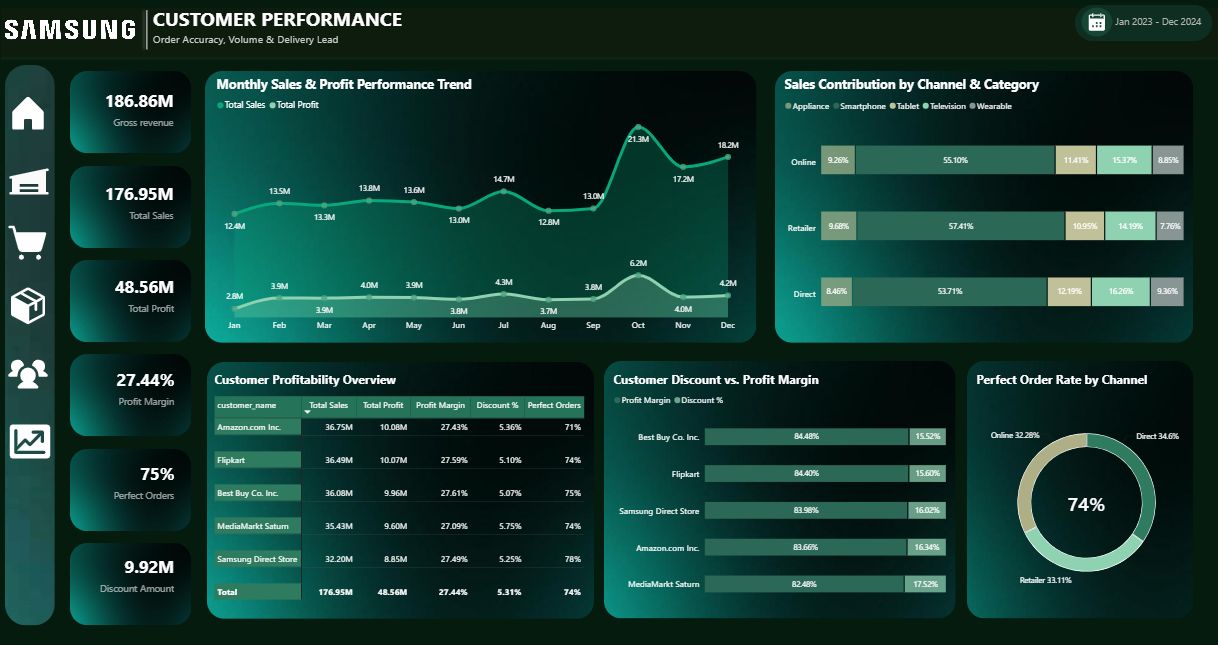

Layout of this report page (visuals, bound fields, positions):
{"tool":"powerbi","page":{"name":"Customer","canvas":[2035,1080],"ordinal":5},"visuals":[{"type":"image","box":[11.4,111.4,82.9,934.3],"z":0},{"type":"shape","box":[0,11.4,2077,91.6],"z":1000},{"type":"image","box":[1010,605.7,585.7,428.6],"z":2000},{"type":"image","box":[1615.7,605.7,377.1,428.6],"z":3000},{"type":"image","box":[347.9,606.4,645.2,428],"z":4000},{"type":"image","box":[1295.7,121.4,697.1,452.9],"z":5000},{"type":"image","box":[344.3,121.4,918.6,452.9],"z":6000},{"type":"image","box":[119.5,908.5,202.3,137.2],"z":7000},{"type":"image","box":[119.5,751.2,202.3,137.2],"z":8000},{"type":"image","box":[119.5,593.9,202.3,137.2],"z":9000},{"type":"image","box":[119.5,436.7,202.3,137.2],"z":10000},{"type":"image","box":[119.5,279.4,202.3,137.2],"z":11000},{"type":"image","box":[119.5,122.1,202.3,137.2],"z":12000},{"type":"cardVisual","fields":{"Data":["Sum(fact_sales.gross_revenue)"]},"box":[111.6,114.4,197.8,142.8],"z":13000},{"type":"cardVisual","fields":{"Data":["Measures_table.Total_Revenue"]},"box":[111.6,269.8,197.8,142.8],"z":14000},{"type":"cardVisual","fields":{"Data":["Measures_table.Total Profit"]},"box":[111.4,425.2,198.2,142.8],"z":15000},{"type":"cardVisual","fields":{"Data":["Measures_table.Profit Margin"]},"box":[111.4,580.7,198.2,142.8],"z":16000},{"type":"cardVisual","fields":{"Data":["Measures_table.Perfect Order"]},"box":[111.4,736.1,198.2,142.8],"z":17000},{"type":"cardVisual","fields":{"Data":["Sum(fact_sales.discount_amount)"]},"box":[111.4,891.5,198.2,142.8],"z":18000},{"type":"pivotTable","title":"Customer Profitability Overview","fields":{"Rows":["dim_customer.customer_name"],"Values":["Measures_table.Total Sales","Measures_table.Total Profit","Measures_table.Profit Margin","Measures_table.Discount %","Measures_table.Perfect Order"]},"box":[344.3,607.1,650,427.1],"z":19000},{"type":"lineChart","title":"Monthly Sales & Profit Performance Trend","fields":{"Category":["dim_date.quarter","dim_date.year","dim_date.short_month_name"],"Y":["Measures_table.Total Sales","Measures_table.Total Profit"]},"box":[348.6,114.3,914.3,460],"z":20000},{"type":"hundredPercentStackedBarChart","title":"Sales Contribution by Channel & Category","fields":{"Category":["dim_customer.channel_type"],"Series":["dim_product.category"],"Y":["Measures_table.Total Revenue"]},"box":[1295.7,114.3,697.1,465.7],"z":21000},{"type":"donutChart","title":"Perfect Order Rate by Channel","fields":{"Category":["dim_customer.channel_type"],"Y":["Measures_table.Perfect Order"]},"box":[1614.3,607.1,398.6,427.1],"z":22000},{"type":"hundredPercentStackedBarChart","title":"Customer Discount vs. Profit Margin","fields":{"Category":["dim_customer.customer_name"],"Y":["Measures_table.Profit Margin","Measures_table.Discount %"]},"box":[1010,607.1,585.7,427.1],"z":23000},{"type":"shape","box":[1795.7,11.4,228.6,60],"z":24000},{"type":"shape","box":[1805.7,15.7,52.9,50],"z":25000},{"type":"shape","title":"CUSTOMER PERFORMANCE","box":[258.6,11.4,418.6,75.7],"z":26000},{"type":"shape","box":[161.4,11.4,172.9,82.9],"z":27000},{"type":"image","box":[0,0,238.9,105.8],"z":28000},{"type":"textbox","box":[1842.9,28.6,181.4,32.9],"z":29000},{"type":"image","box":[1812.9,20,35.7,41.4],"z":30000},{"type":"image","box":[15,134.3,70,115],"z":31000},{"type":"image","box":[14.3,454.3,70,115],"z":32000},{"type":"image","box":[14.3,350,70,115],"z":33000},{"type":"image","box":[17.1,250,70,115],"z":34000},{"type":"image","box":[15,566.3,70,115],"z":35000},{"type":"image","box":[11.7,681.7,83.3,115],"z":36000}]}

Visuals, with their boxes in screenshot pixels (x1, y1, x2, y2), scaled from the page's 2035x1080 canvas onto the 1218x645 screenshot:
image: [left=7, top=67, right=56, bottom=625]
shape: [left=0, top=7, right=1217, bottom=62]
image: [left=605, top=362, right=955, bottom=618]
image: [left=967, top=362, right=1193, bottom=618]
image: [left=208, top=362, right=594, bottom=618]
image: [left=776, top=73, right=1193, bottom=343]
image: [left=206, top=73, right=756, bottom=343]
image: [left=72, top=543, right=193, bottom=625]
image: [left=72, top=449, right=193, bottom=531]
image: [left=72, top=355, right=193, bottom=437]
image: [left=72, top=261, right=193, bottom=343]
image: [left=72, top=167, right=193, bottom=249]
image: [left=72, top=73, right=193, bottom=155]
cardVisual - Sum(fact_sales.gross_revenue): [left=67, top=68, right=185, bottom=154]
cardVisual - Measures_table.Total_Revenue: [left=67, top=161, right=185, bottom=246]
cardVisual - Measures_table.Total Profit: [left=67, top=254, right=185, bottom=339]
cardVisual - Measures_table.Profit Margin: [left=67, top=347, right=185, bottom=432]
cardVisual - Measures_table.Perfect Order: [left=67, top=440, right=185, bottom=525]
cardVisual - Sum(fact_sales.discount_amount): [left=67, top=532, right=185, bottom=618]
"Customer Profitability Overview" pivotTable: [left=206, top=363, right=595, bottom=618]
"Monthly Sales & Profit Performance Trend" lineChart: [left=209, top=68, right=756, bottom=343]
"Sales Contribution by Channel & Category" hundredPercentStackedBarChart: [left=776, top=68, right=1193, bottom=346]
"Perfect Order Rate by Channel" donutChart: [left=966, top=363, right=1205, bottom=618]
"Customer Discount vs. Profit Margin" hundredPercentStackedBarChart: [left=605, top=363, right=955, bottom=618]
shape: [left=1075, top=7, right=1212, bottom=43]
shape: [left=1081, top=9, right=1112, bottom=39]
"CUSTOMER PERFORMANCE" shape: [left=155, top=7, right=405, bottom=52]
shape: [left=97, top=7, right=200, bottom=56]
image: [left=0, top=0, right=143, bottom=63]
textbox: [left=1103, top=17, right=1212, bottom=37]
image: [left=1085, top=12, right=1106, bottom=37]
image: [left=9, top=80, right=51, bottom=149]
image: [left=9, top=271, right=50, bottom=340]
image: [left=9, top=209, right=50, bottom=278]
image: [left=10, top=149, right=52, bottom=218]
image: [left=9, top=338, right=51, bottom=407]
image: [left=7, top=407, right=57, bottom=476]
